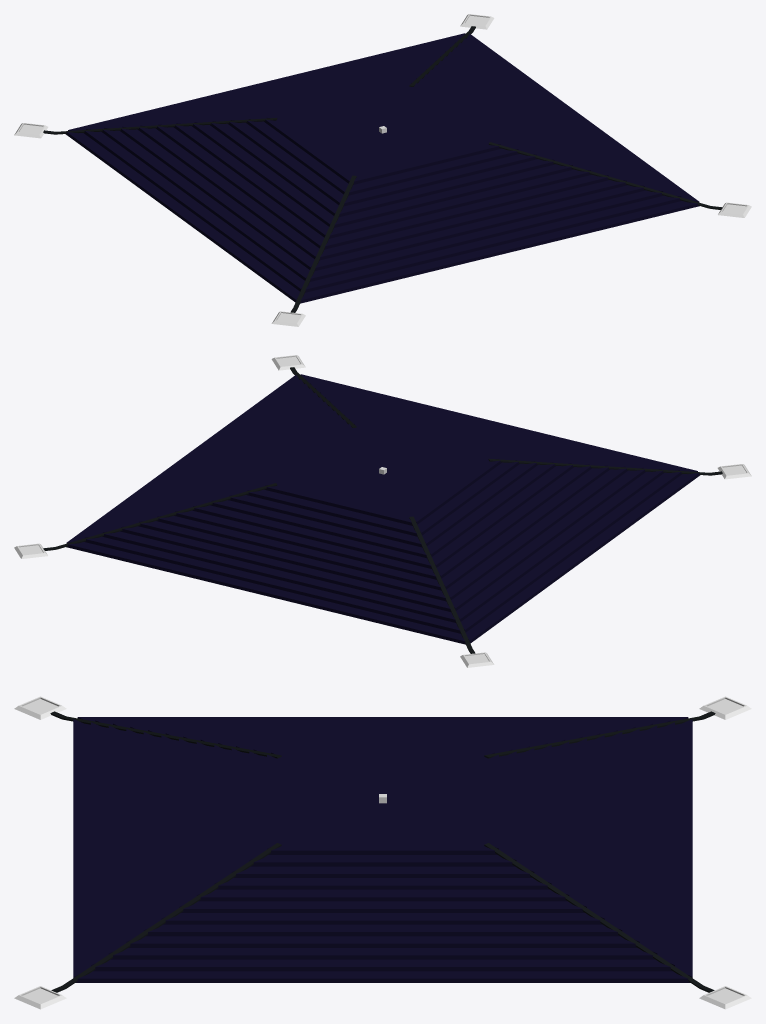
The model's file is pyramid_stairs.glb.
3 renders of one model, top to bottom at view 1: azimuth 30°, elevation 25°; view 2: azimuth 150°, elevation 25°; view 3: azimuth 270°, elevation 25°, orthographic. The views are drawn at different scales.
Visible parts, largest first — view 1: pyramid-col, activation_cube-col, wire.001, wire.000, wire.002; view 2: pyramid-col, activation_cube-col, wire.003, wire.002, wire.000; view 3: pyramid-col, activation_cube-col, wire.001, wire.003, wire.000, wire.002.
Part boxes in pixels (x1,y1,x2,y2): pyramid-col: (65, 33, 699, 303); activation_cube-col: (14, 14, 751, 326); wire.001: (488, 142, 722, 209); wire.000: (290, 175, 356, 312); wire.002: (43, 118, 277, 134); pyramid-col: (66, 374, 700, 644); activation_cube-col: (14, 355, 751, 667); wire.003: (43, 483, 277, 550); wire.002: (409, 516, 475, 653); wire.000: (488, 459, 722, 475); pyramid-col: (73, 717, 692, 982); activation_cube-col: (14, 696, 751, 1009); wire.001: (51, 843, 281, 992); wire.003: (484, 843, 714, 992); wire.000: (50, 711, 281, 758); wire.002: (484, 711, 715, 758).
Size of what is drawn, in the model's own units: 47.68 by 4.12 by 47.69.
